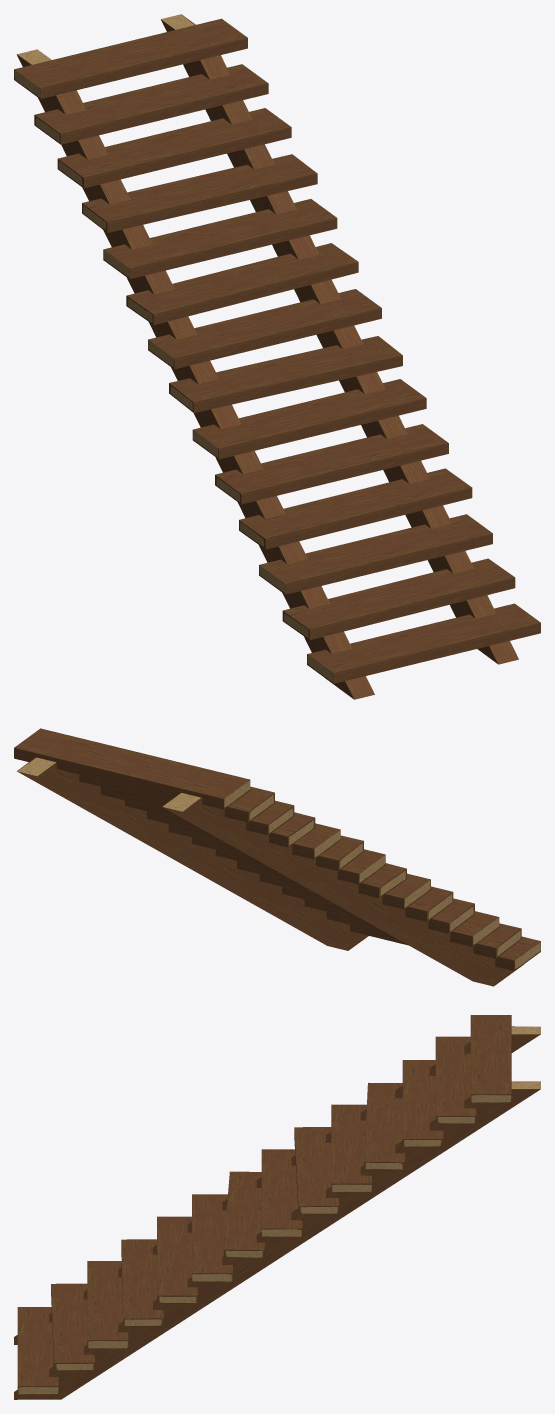
File: stair_interior_simple.glb
The picture shows the model from 3 angles, top to bottom: view 1: azimuth 30°, elevation 25°; view 2: azimuth 150°, elevation 25°; view 3: azimuth 270°, elevation 25°; orthographic projection. The views are drawn at different scales.
Bounding box in the file's own units: 1.68 × 3.03 × 4.62.
Materials: 1 (1 with a texture image).
